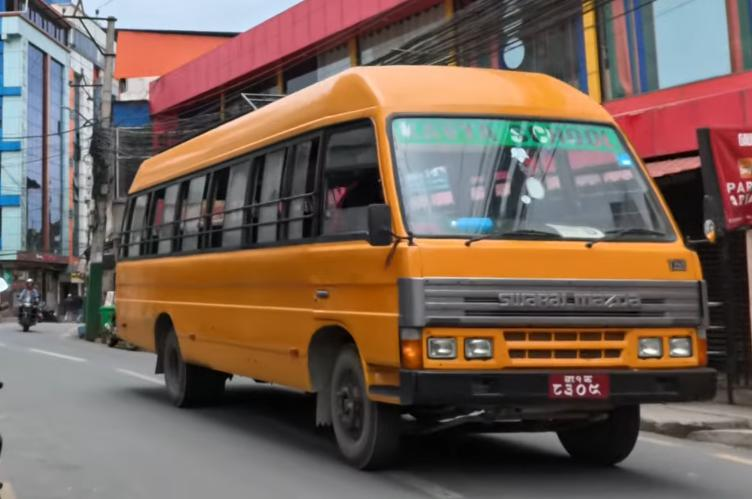school_bus: (111, 64, 719, 476)
